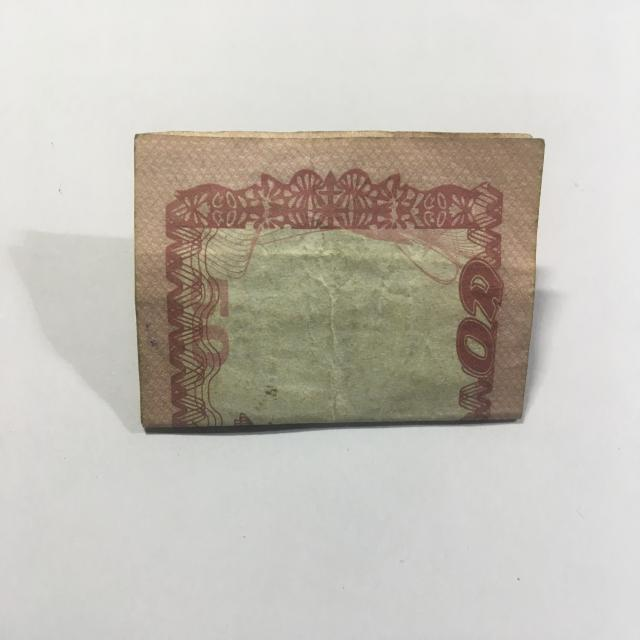Taka: (132, 118, 539, 420)
